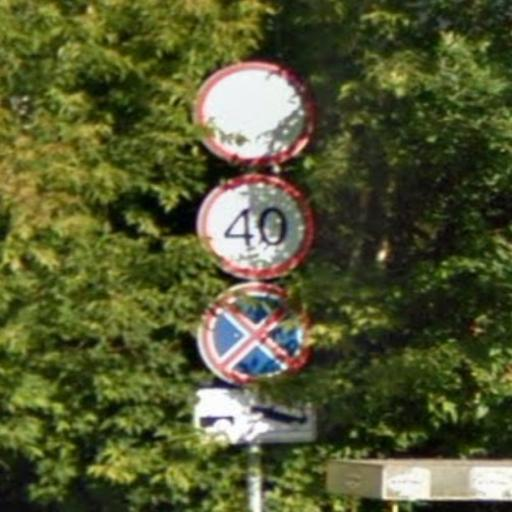traffic_sign: (199, 279, 314, 390), (198, 174, 317, 281)
